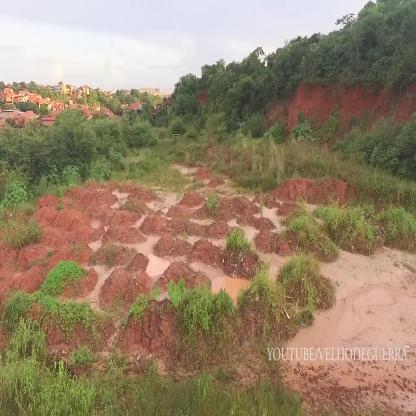agua: (203, 270, 255, 300), (147, 251, 172, 286), (189, 258, 223, 278)
